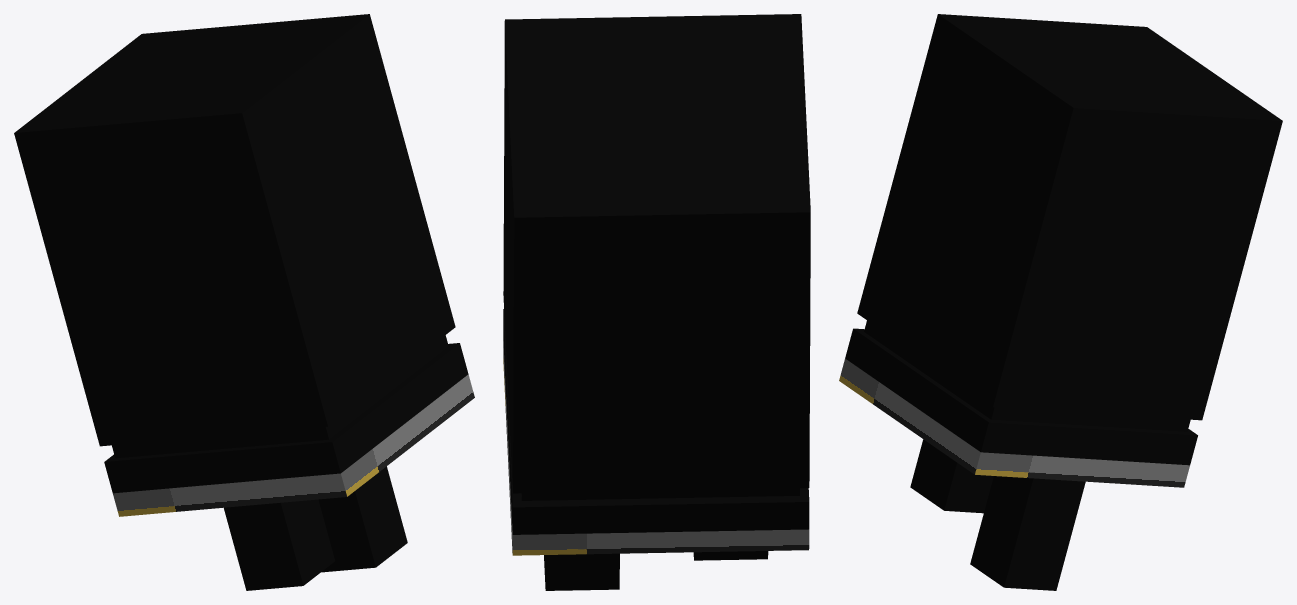
The model's file is capacitor.obj.
3 renders of one model, left to right at view 1: azimuth 30°, elevation 25°; view 2: azimuth 150°, elevation 25°; view 3: azimuth 270°, elevation 25°, orthographic. The views are drawn at different scales.
Visible parts, largest first — view 1: cube; view 2: cube; view 3: cube.
Boxes of the visible parts, x1,y1,x2,y2 form: cube: (14, 14, 474, 590); cube: (503, 14, 810, 590); cube: (839, 14, 1282, 590).
Size of the model in its own units: 0.8405 by 1.13 by 0.9145.
